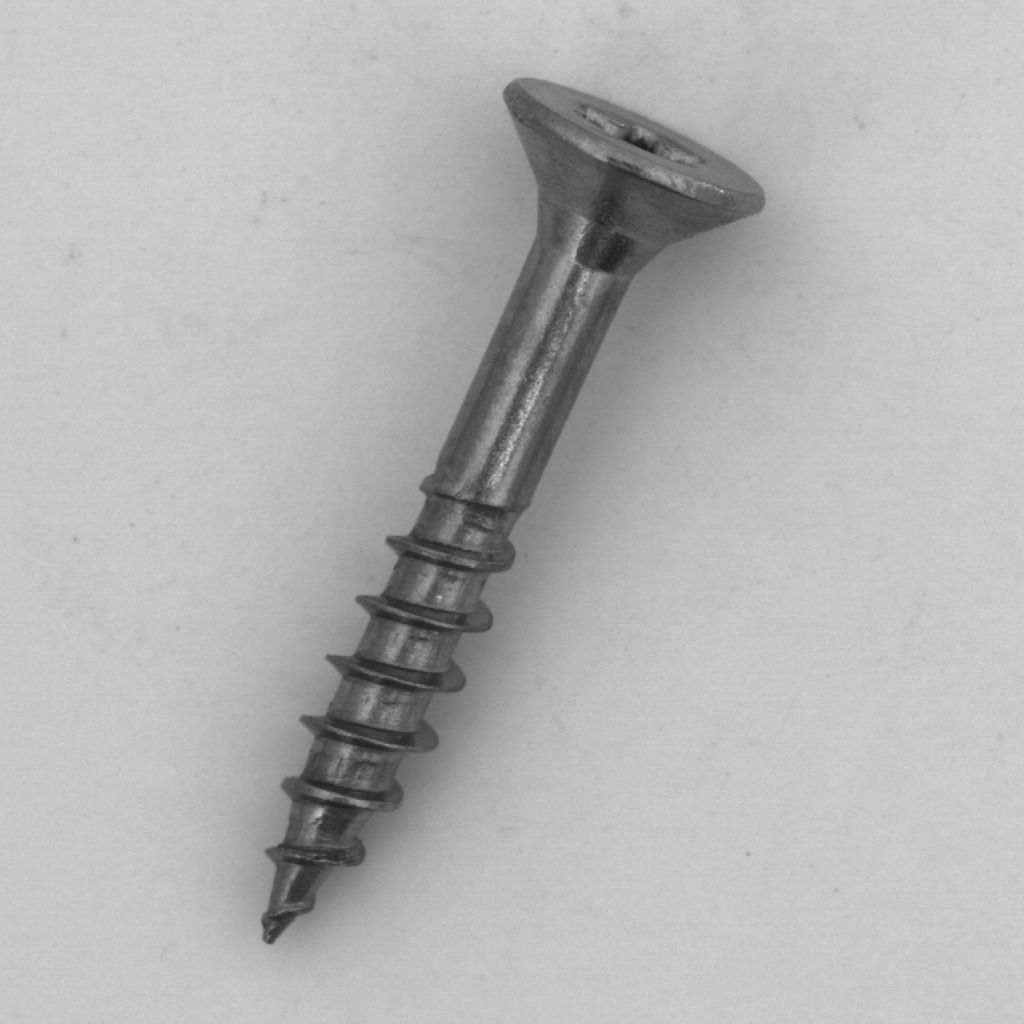good: (232, 66, 777, 954)
